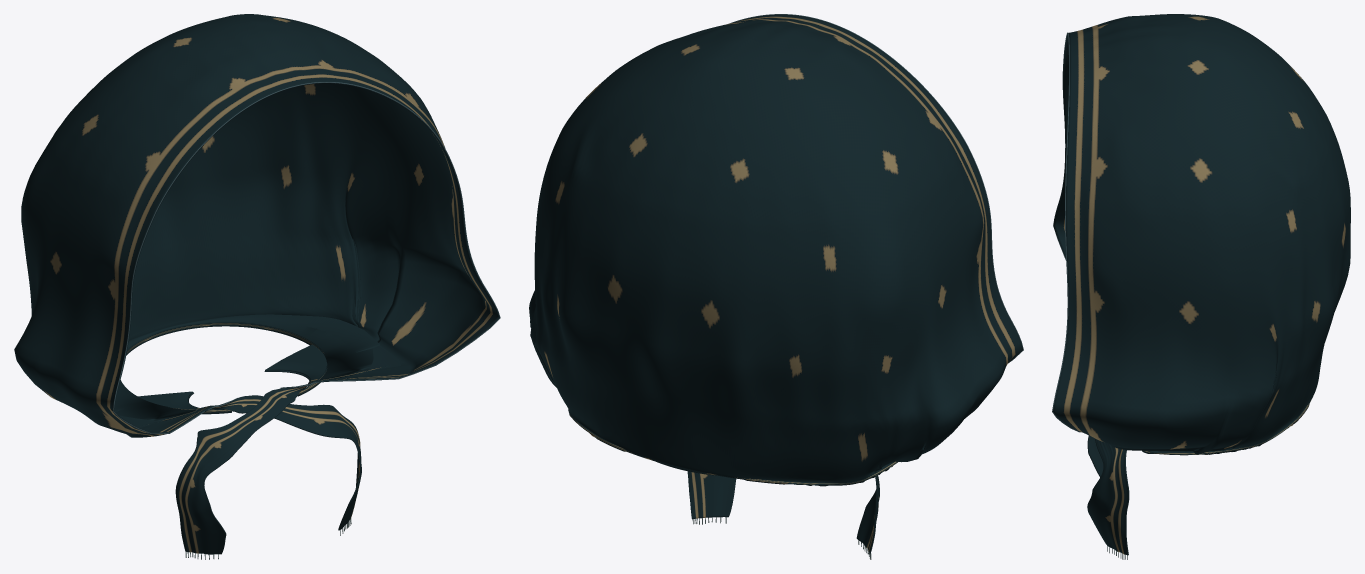
The model's file is Feminine-straight-triangle-pashmina249-headgear.glb.
3 renders of one model, left to right at view 1: azimuth 30°, elevation 25°; view 2: azimuth 150°, elevation 25°; view 3: azimuth 270°, elevation 25°, orthographic. The views are drawn at different scales.
Parts seen in each view (by area): view 1: 226 headgear / Headwear / continuous woven pashmina239, 226 headgear / Headwear / face edge239; view 2: 226 headgear / Headwear / continuous woven pashmina239, 226 headgear / Headwear / face edge239; view 3: 226 headgear / Headwear / continuous woven pashmina239, 226 headgear / Headwear / face edge239.
Boxes of the visible parts, x1=… form: 226 headgear / Headwear / continuous woven pashmina239: x1=14, y1=14, x2=499, y2=554; 226 headgear / Headwear / face edge239: x1=112, y1=82, x2=500, y2=434; 226 headgear / Headwear / continuous woven pashmina239: x1=529, y1=14, x2=1023, y2=553; 226 headgear / Headwear / face edge239: x1=728, y1=14, x2=1023, y2=363; 226 headgear / Headwear / continuous woven pashmina239: x1=1053, y1=14, x2=1350, y2=555; 226 headgear / Headwear / face edge239: x1=1052, y1=32, x2=1080, y2=432.
Size of the model in its own units: 1.25 by 1.41 by 0.7789.
Materials: 3 (1 with a texture image).
